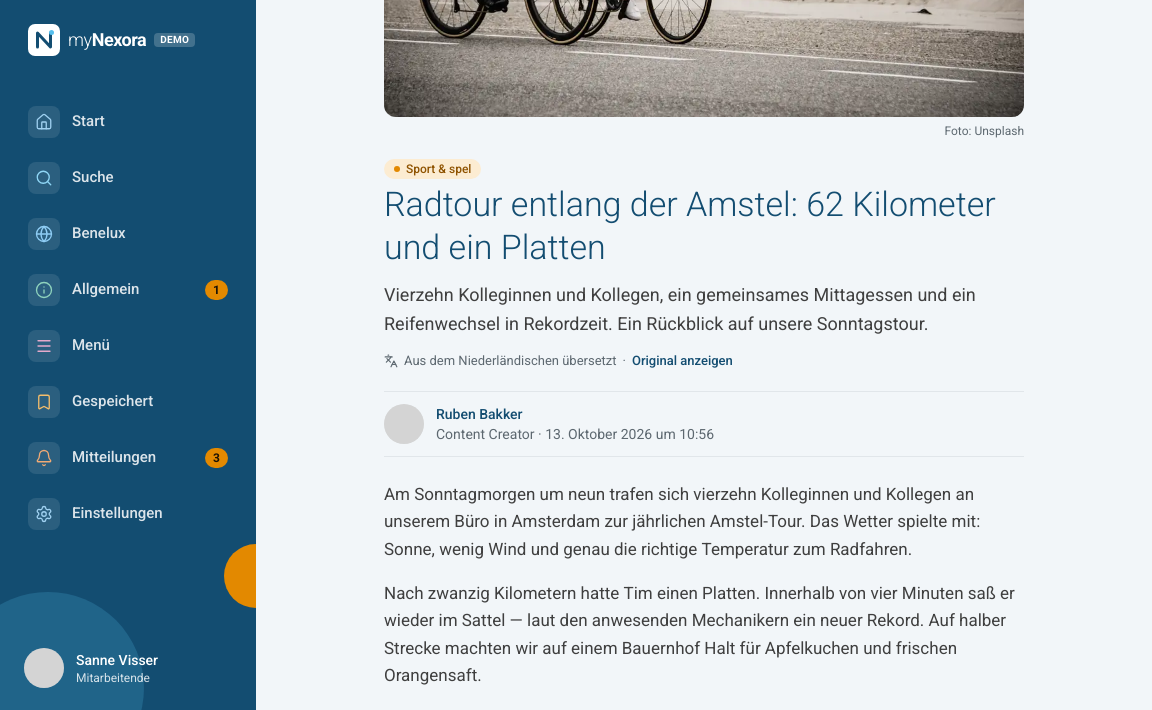
Scenario: translated content › shows posts and comments in the chosen language, with the original one click away
This screenshot has width=1152, height=710.
(page scrolled)
Expected: the heading "Radtour entlang der Amstel: 62 Kilometer und ein Platten" is shown, left=384, top=183, right=1024, bottom=268
Click the button "Original anzeigen".
click(682, 361)  # box left=632, top=350, right=733, bottom=371
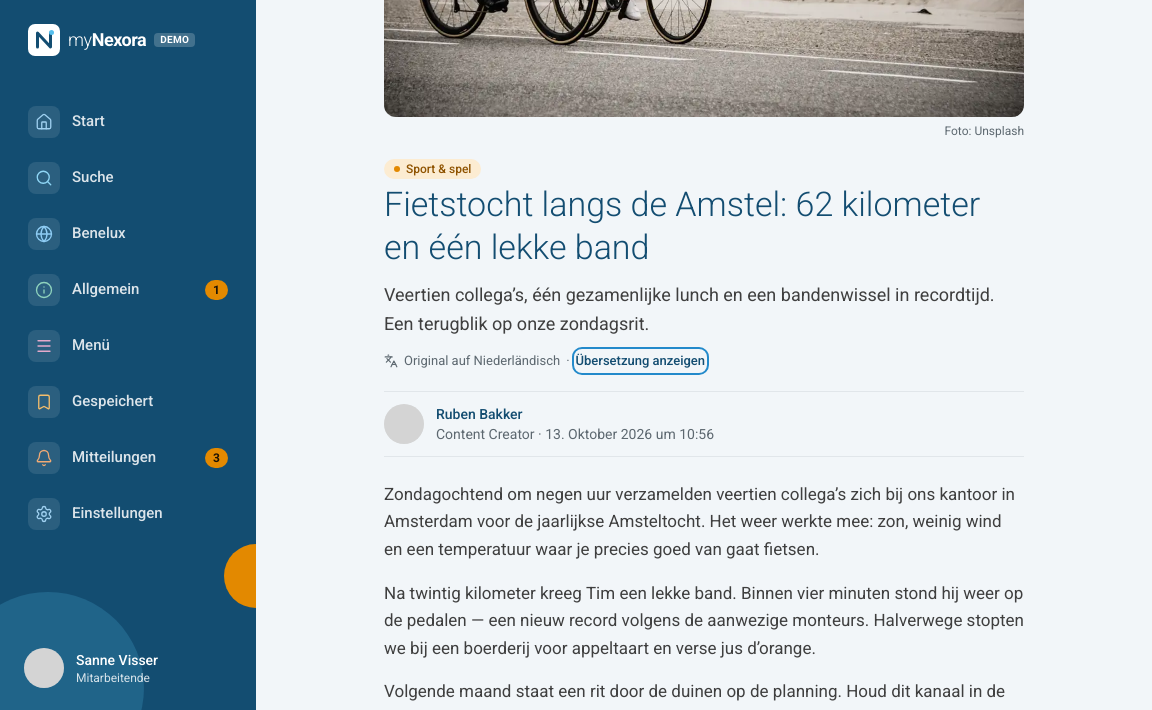
Now the heading "Fietstocht langs de Amstel: 62 kilometer en één lekke band" is shown, box left=384, top=183, right=1024, bottom=268
